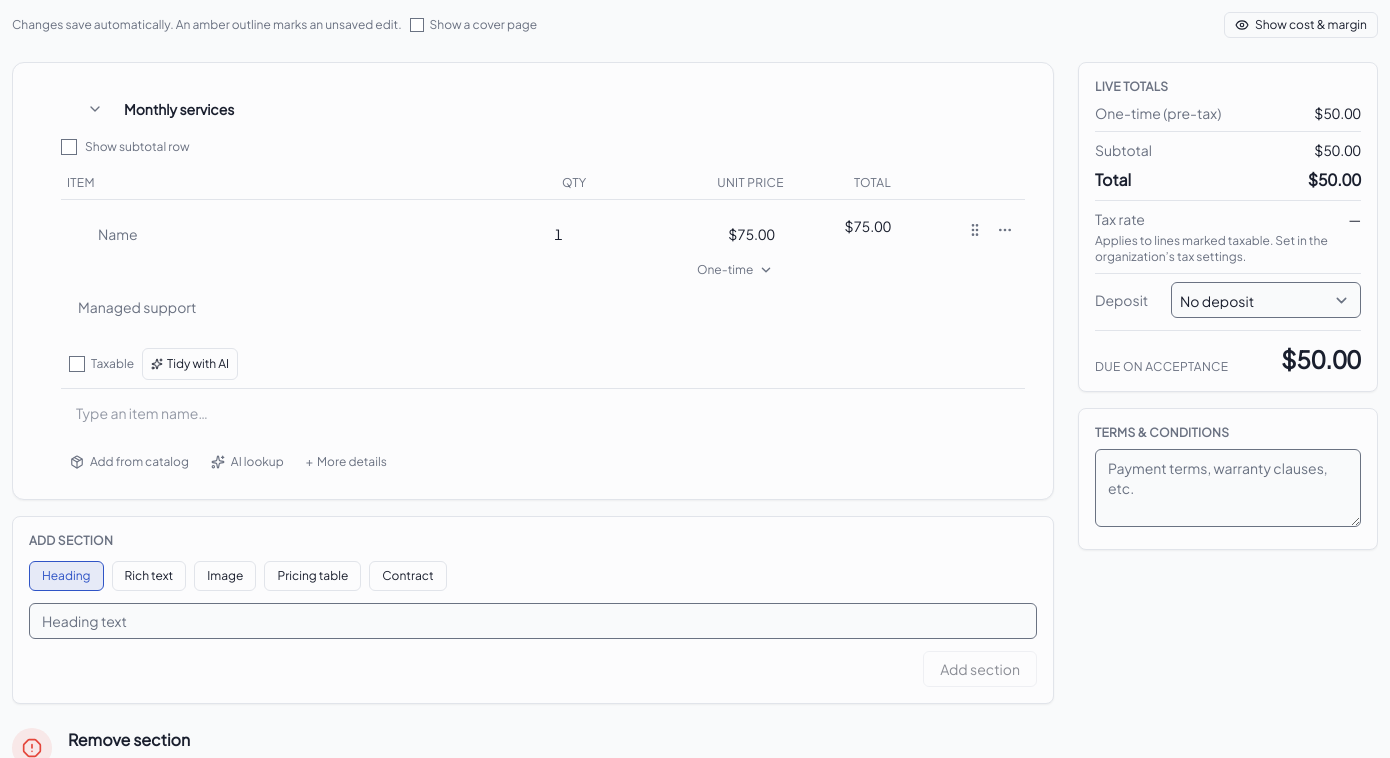
Test: QuoteEditor — explicit "no cost" designation (Task B1) › readonly rows also swap the collapsed "Cost $0.00" figure for "No cost"
Click the button with test id "quote-editor-toggle-internal".
click(1301, 25)  # box [1224,12,1378,38]
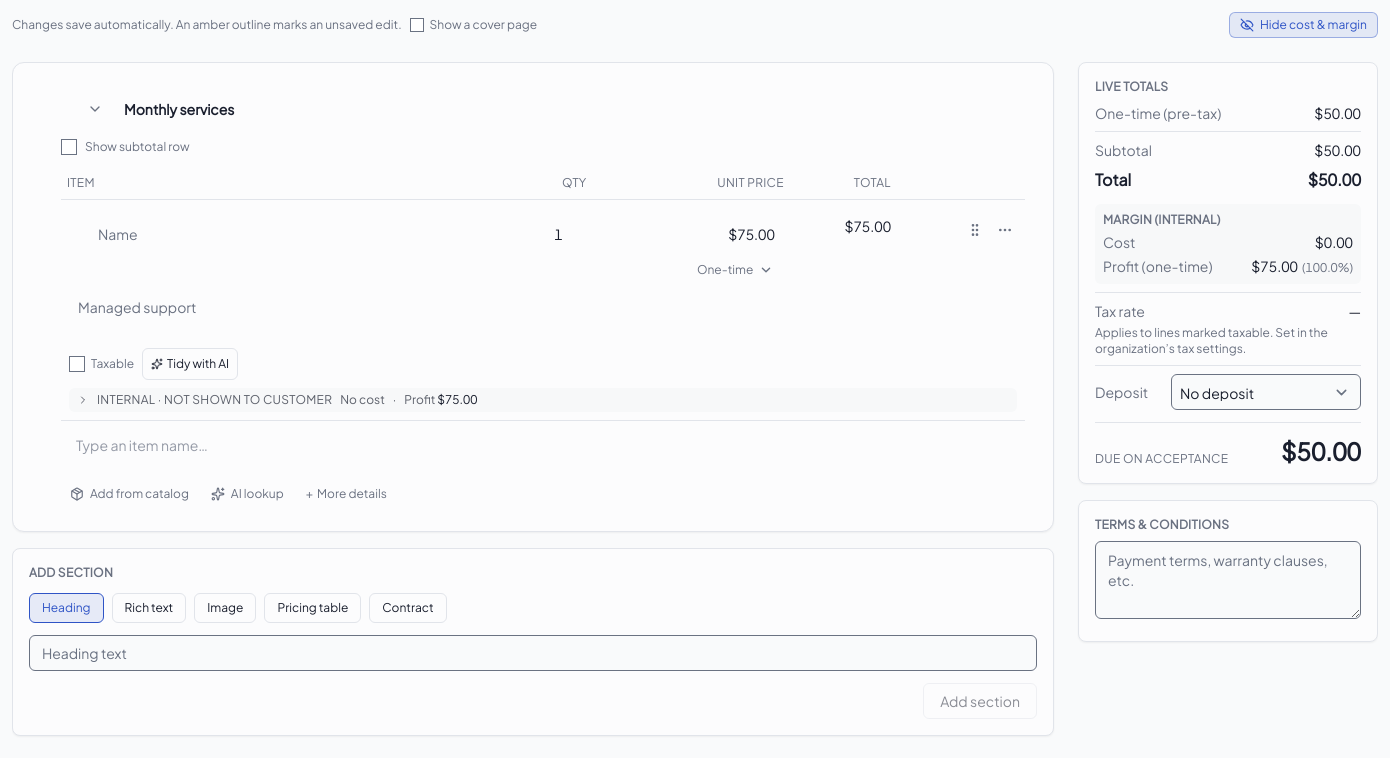
Expected: the element with test id "quote-line-internal-summary-line-1" does not show "Cost $0.00"
Expected: the element with test id "quote-line-internal-summary-line-1" shows "No cost", [340,392,385,407]
